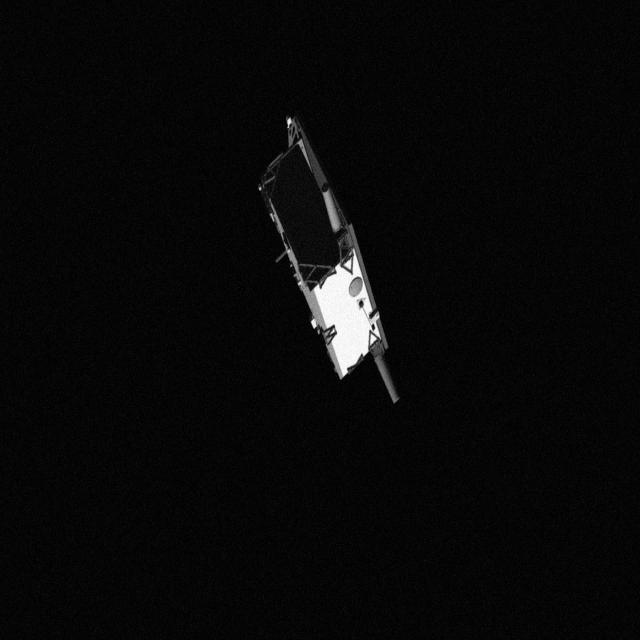medium_debris: (250, 108, 412, 432)
